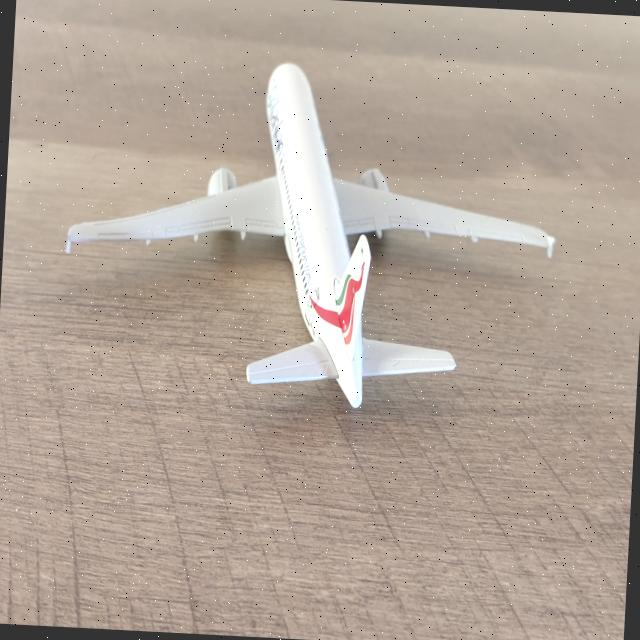air-plane: (66, 64, 554, 407)
